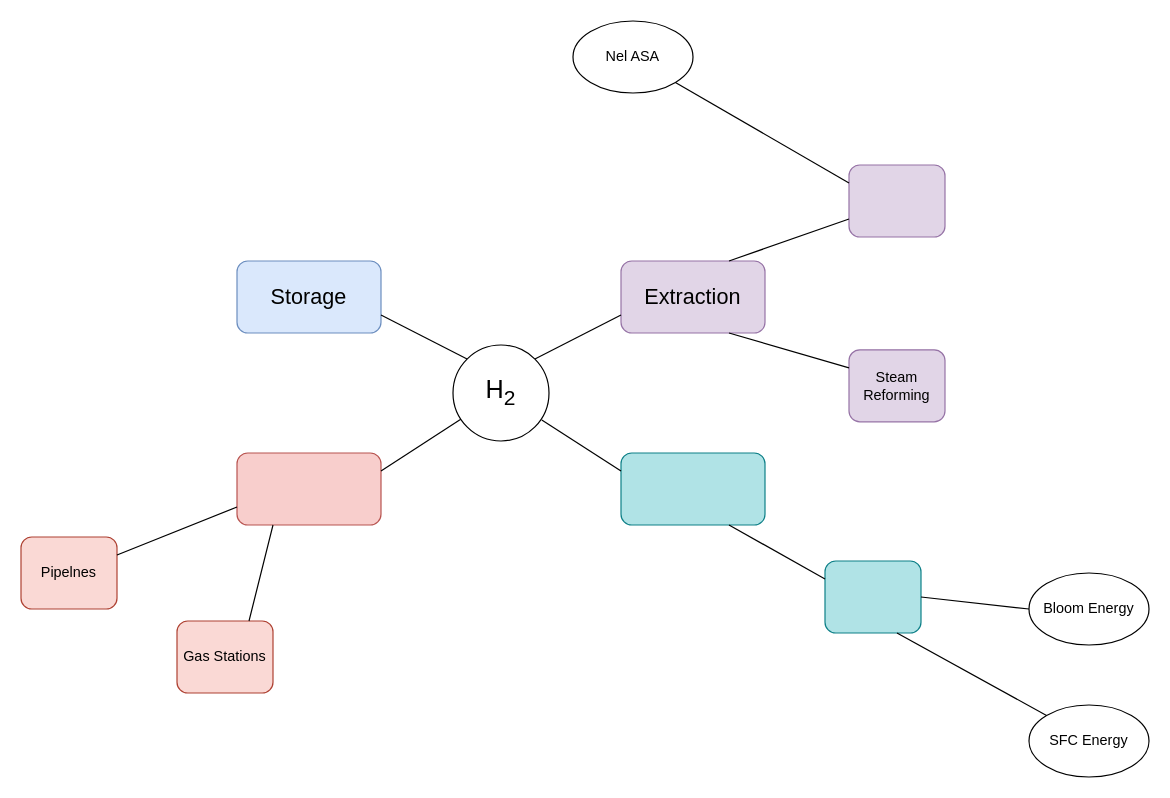
The diagram is 1170 pixels wide and 798 high, and some of its shapes have lost their labels. The box of each missing label's shape, as (x1, y1, x2, y2) in pixels:
Electrolysis: (848, 164, 945, 237)
Fuel Cell: (824, 560, 921, 633)
Network: (236, 452, 381, 525)
Usage: (620, 452, 765, 525)
